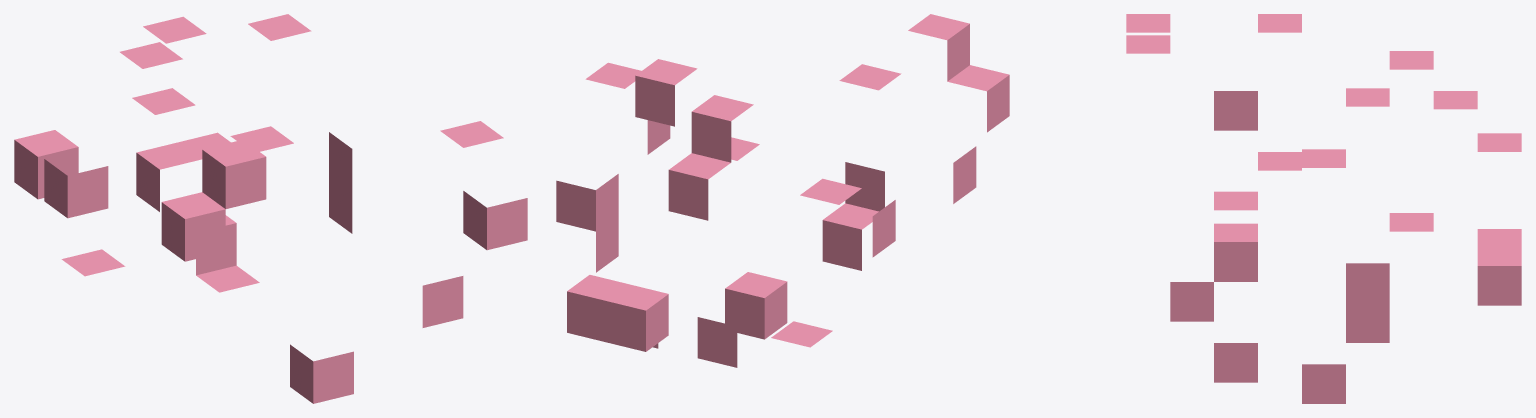
Rendered from tree-cherry-0p9-white-ff9dbb.gltf.
The picture shows the model from 3 angles, left to right: view 1: azimuth 30°, elevation 25°; view 2: azimuth 150°, elevation 25°; view 3: azimuth 270°, elevation 25°; orthographic projection. The views are drawn at different scales.
Parts seen in each view (by area): view 1: tree-cherry-0p9-white-ff9dbb; view 2: tree-cherry-0p9-white-ff9dbb; view 3: tree-cherry-0p9-white-ff9dbb.
Part boxes in pixels (left/top/right/bottom): tree-cherry-0p9-white-ff9dbb: left=14, top=14, right=527, bottom=403; tree-cherry-0p9-white-ff9dbb: left=556, top=14, right=1009, bottom=367; tree-cherry-0p9-white-ff9dbb: left=1126, top=14, right=1521, bottom=403.
Size of the model in its own units: 9 by 7 by 11.
